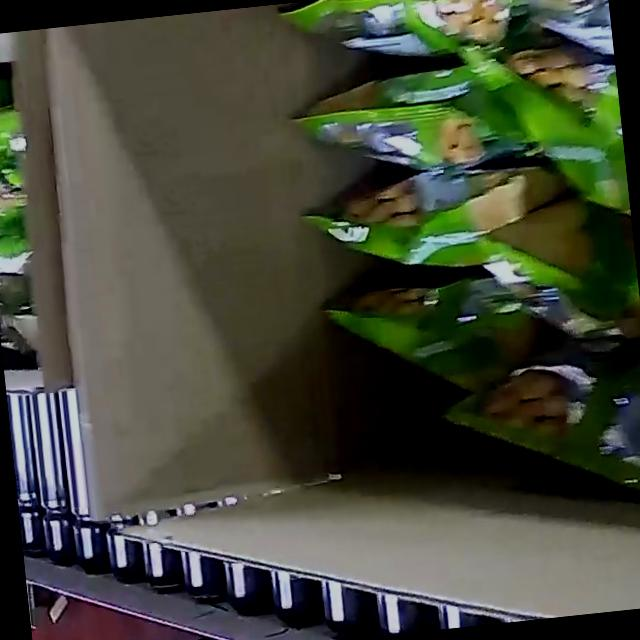yogurt: (271, 0, 640, 548), (0, 66, 49, 360)
